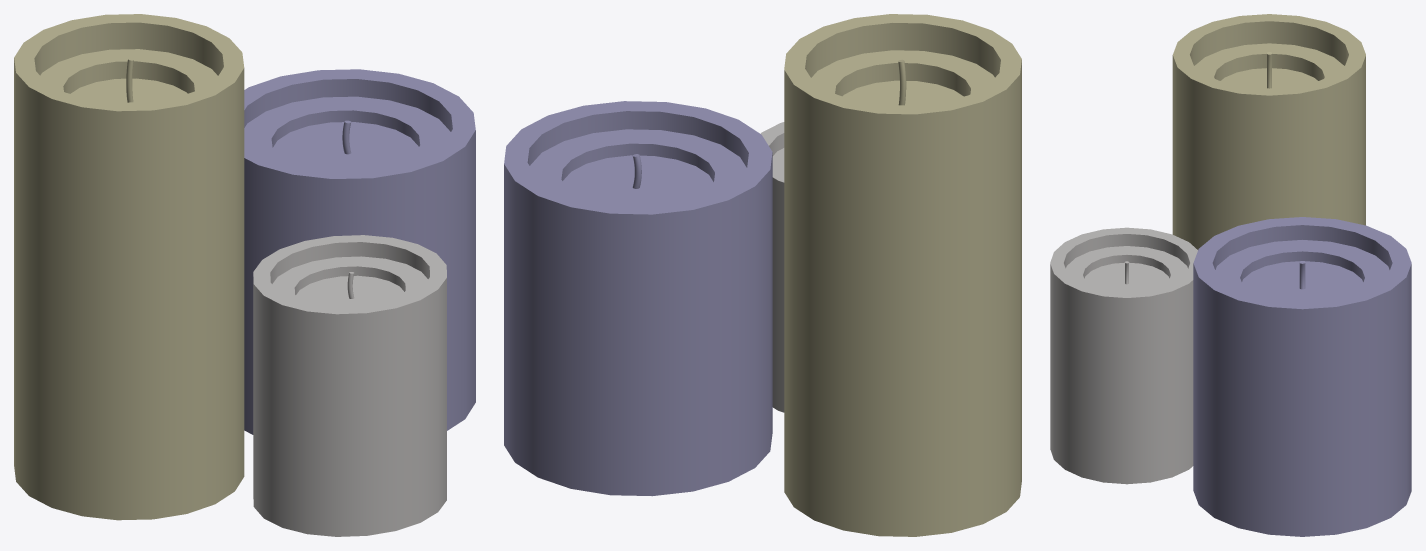
Rendered from colored candles2.fbx.
The picture shows the model from 3 angles, left to right: view 1: azimuth 30°, elevation 25°; view 2: azimuth 150°, elevation 25°; view 3: azimuth 270°, elevation 25°; orthographic projection. The views are drawn at different scales.
Visible parts, largest first — view 1: pCylinder3, pCylinder4, pCylinder5; view 2: pCylinder3, pCylinder5, pCylinder4; view 3: pCylinder5, pCylinder3, pCylinder4.
Part boxes in pixels (box(x1,y1,x2,y2)): pCylinder3: box(14, 14, 244, 520); pCylinder4: box(253, 235, 446, 536); pCylinder5: box(244, 69, 475, 434); pCylinder3: box(784, 14, 1021, 536); pCylinder5: box(504, 101, 772, 496); pCylinder4: box(760, 122, 784, 412); pCylinder5: box(1193, 217, 1411, 536); pCylinder3: box(1172, 14, 1365, 249); pCylinder4: box(1050, 227, 1197, 484).
Size of the model in its own units: 0.151 by 0.1322 by 0.1258.
